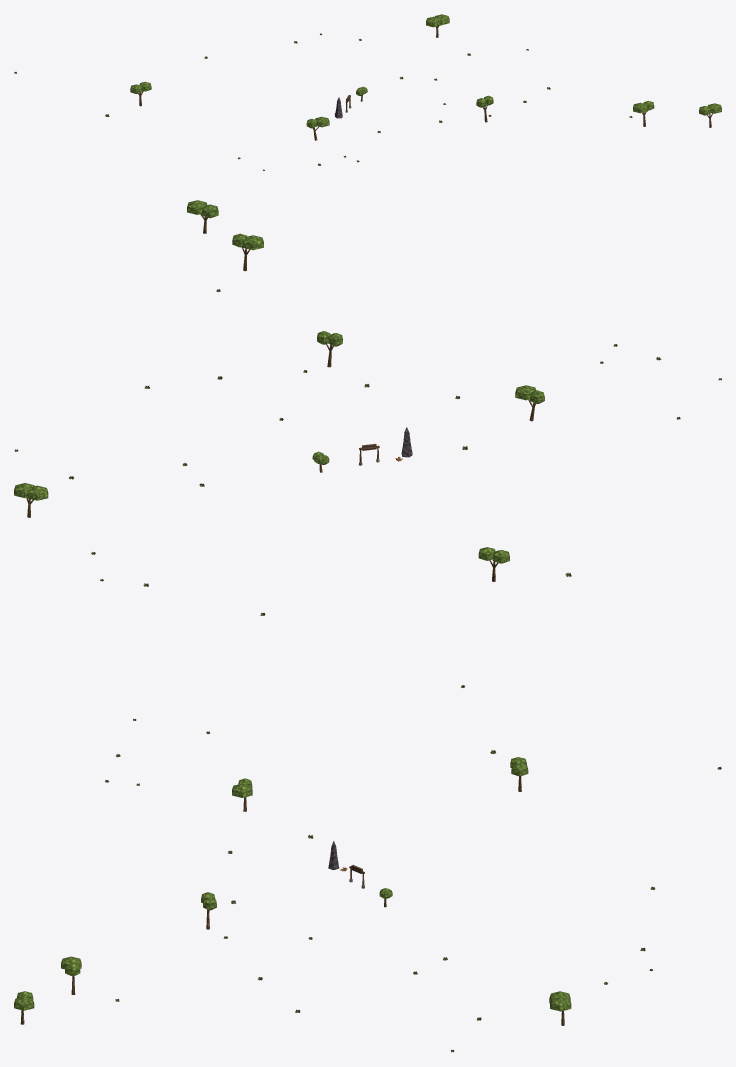
The model's file is FieldCell_5_5.fbx.
3 renders of one model, top to bottom at view 1: azimuth 30°, elevation 25°; view 2: azimuth 150°, elevation 25°; view 3: azimuth 270°, elevation 25°, orthographic. The views are drawn at different scales.
Visible parts, largest first — view 1: FieldCell_5_5; view 2: FieldCell_5_5; view 3: FieldCell_5_5.
Boxes of the visible parts, bbox=[...] form: FieldCell_5_5: bbox=[130, 14, 721, 140]; FieldCell_5_5: bbox=[14, 200, 544, 581]; FieldCell_5_5: bbox=[14, 757, 571, 1025].
Size of the model in its own units: 15173 by 2103 by 15132.
